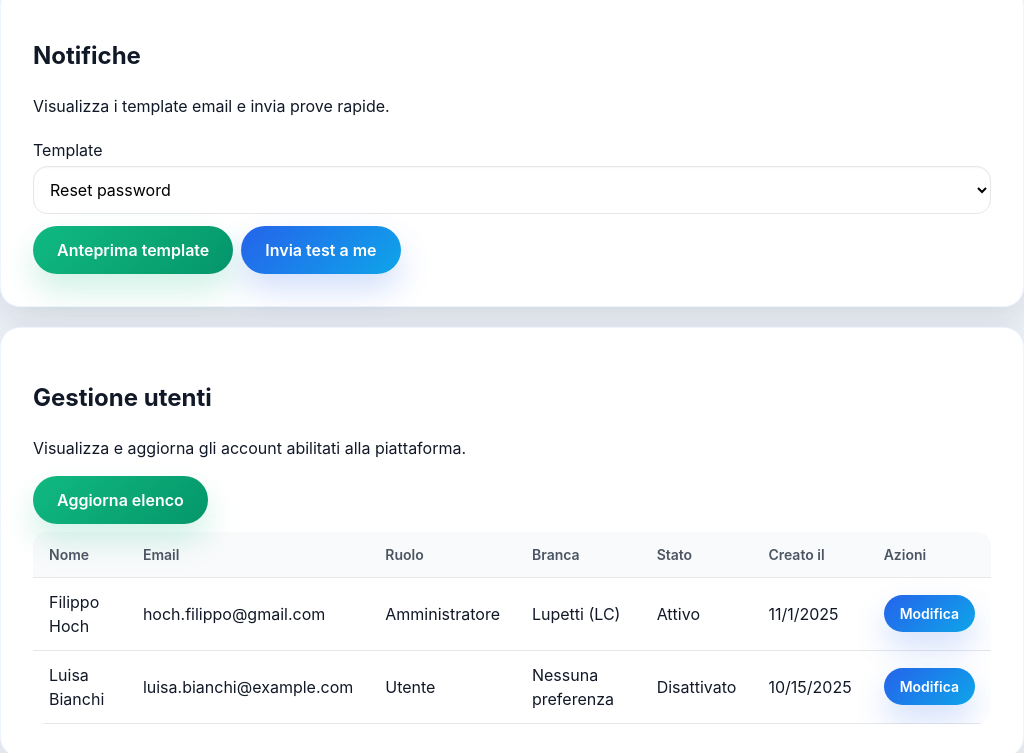
Scenario: AdminPage user selection › loads the selected user details in the edit form when clicking Modifica
expect the button "Aggiorna elenco" is shown: met, box 33,476 -> 208,524
expect the text "Filippo Hoch" is shown: met, box 33,577 -> 127,650
Step 1. Click the button "Modifica" in the row of "Luisa Bianchi" → (929, 687), box 884,668 -> 975,705
(page scrolled)
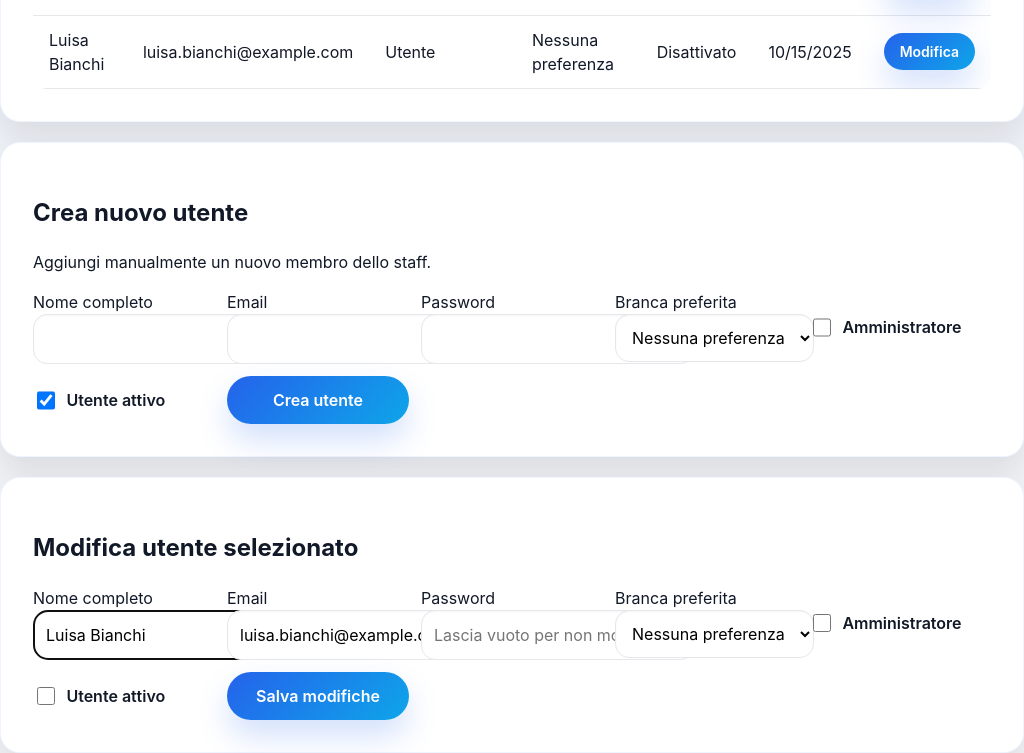
expect the field labelled "Nome completo" below "Modifica utente selezionato" holds "Luisa Bianchi": met, box 33,610 -> 307,660
